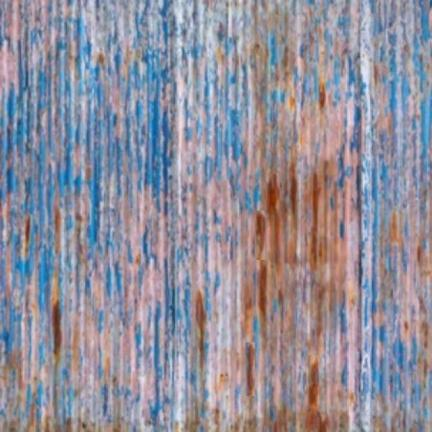karat: (246, 162, 347, 319)
